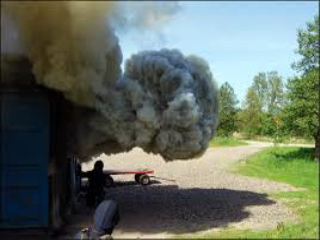smoke: (40, 22, 217, 159)
